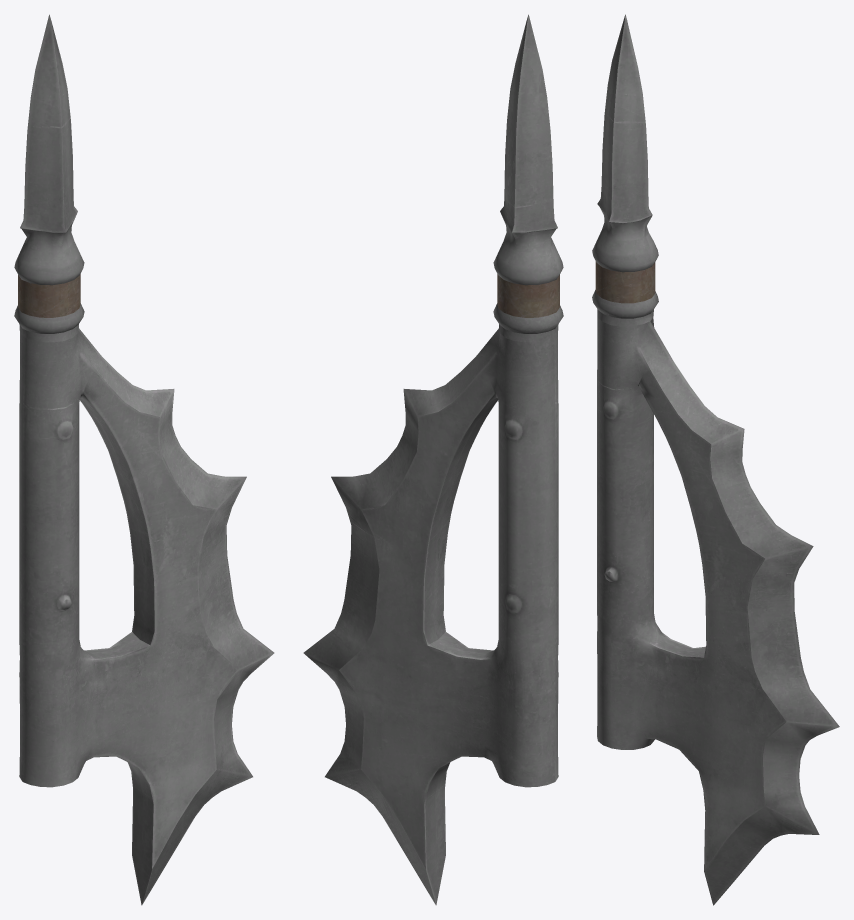
File: easterling_spear_blade.fbx
The picture shows the model from 3 angles, left to right: view 1: azimuth 30°, elevation 25°; view 2: azimuth 150°, elevation 25°; view 3: azimuth 330°, elevation 25°; orthographic projection. The views are drawn at different scales.
Visible parts, largest first — view 1: easterling_spear_blade; view 2: easterling_spear_blade; view 3: easterling_spear_blade.
Boxes of the visible parts, x1,y1,x2,y2 form: easterling_spear_blade: [14, 14, 274, 905]; easterling_spear_blade: [303, 14, 563, 905]; easterling_spear_blade: [592, 14, 839, 905].
Bounding box in the file's own units: 0.2061 × 0.0476 × 0.7016.
1 material, 1 textured.
